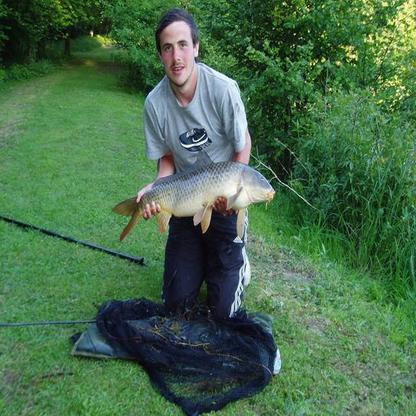fish: (112, 158, 276, 243)
human_face: (154, 6, 200, 86)
